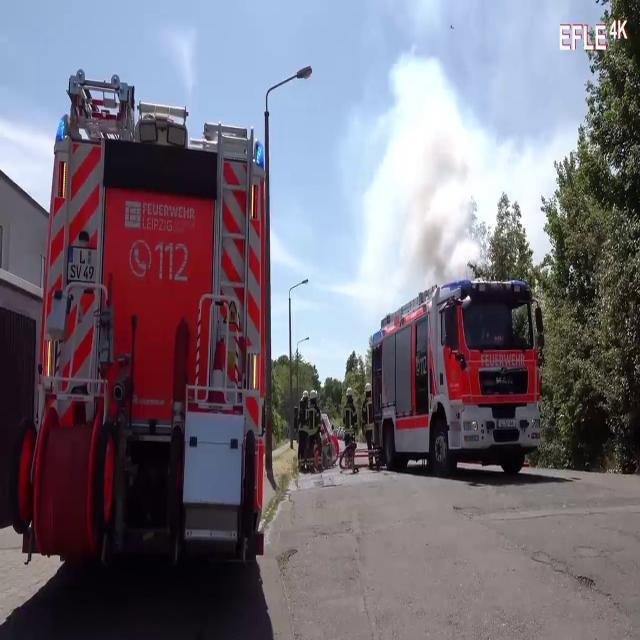Smoke: (354, 40, 494, 302)
